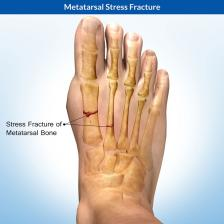stress-fracture: (66, 15, 168, 224)
